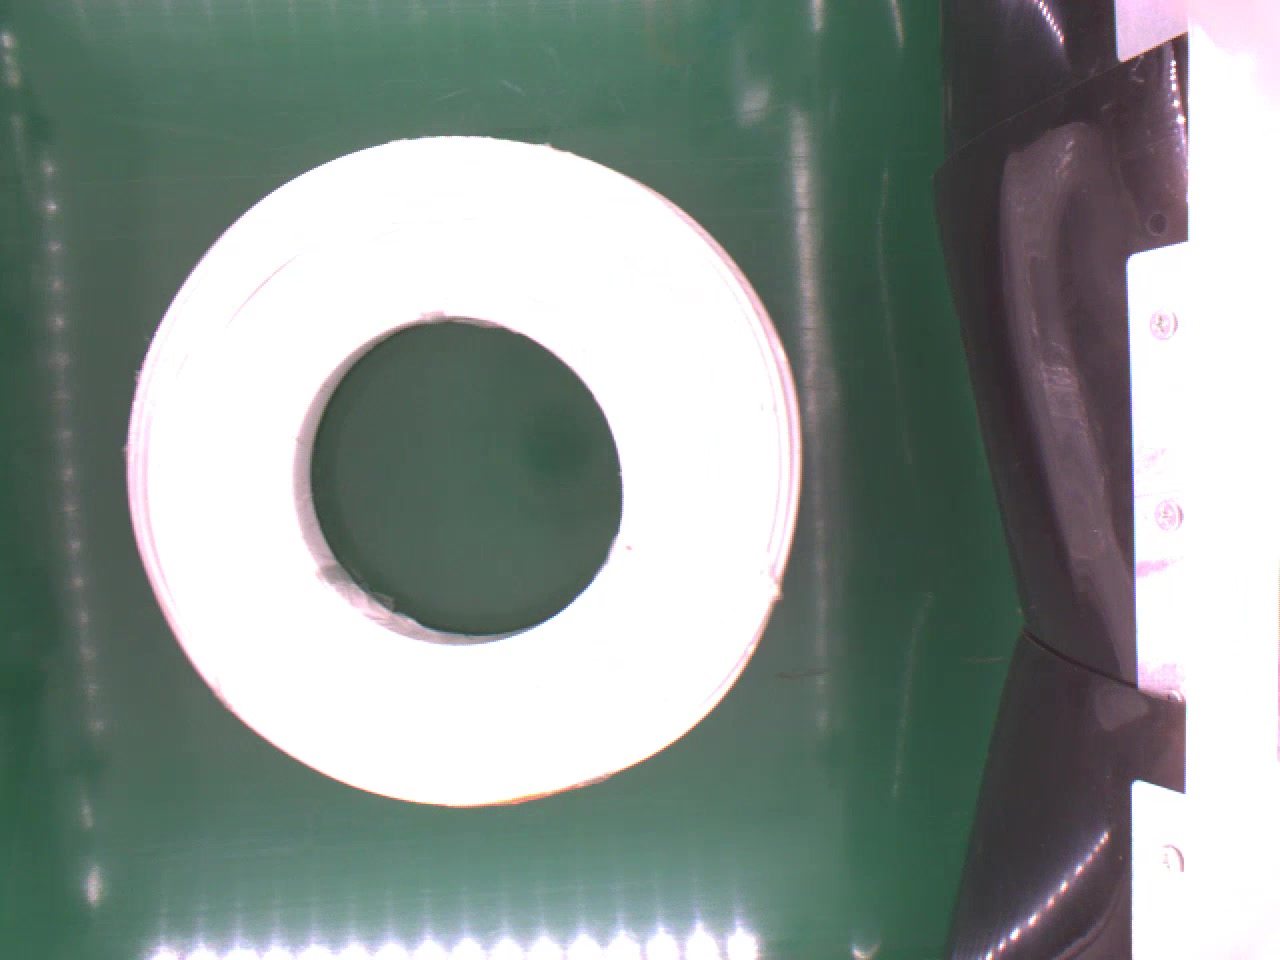white: (124, 125, 810, 812)
